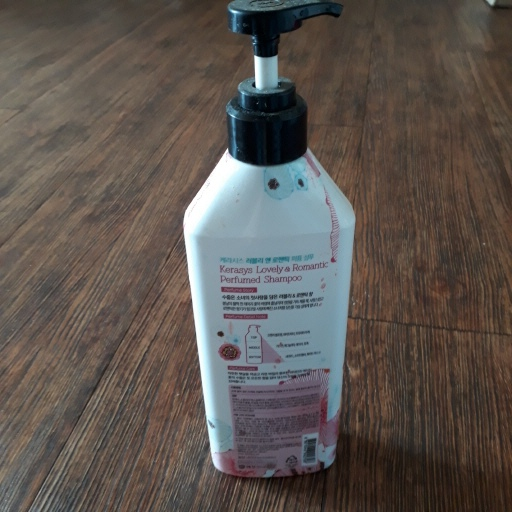Plastic_3: (179, 1, 360, 478)
